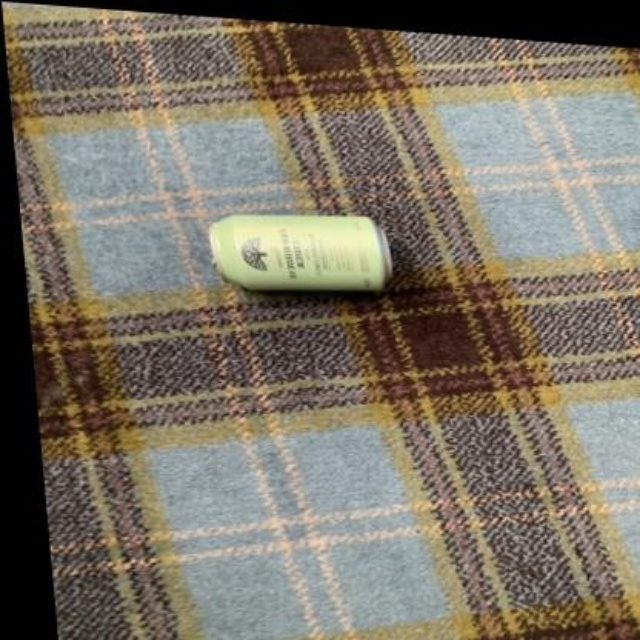trash: (209, 215, 391, 289)
